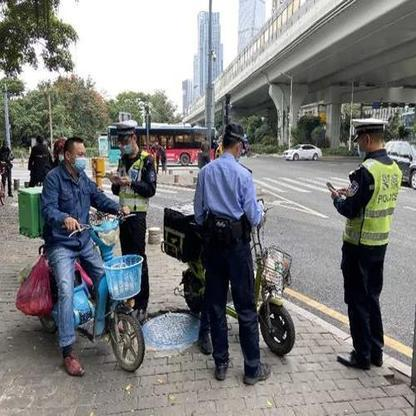target: (16, 136, 145, 378)
